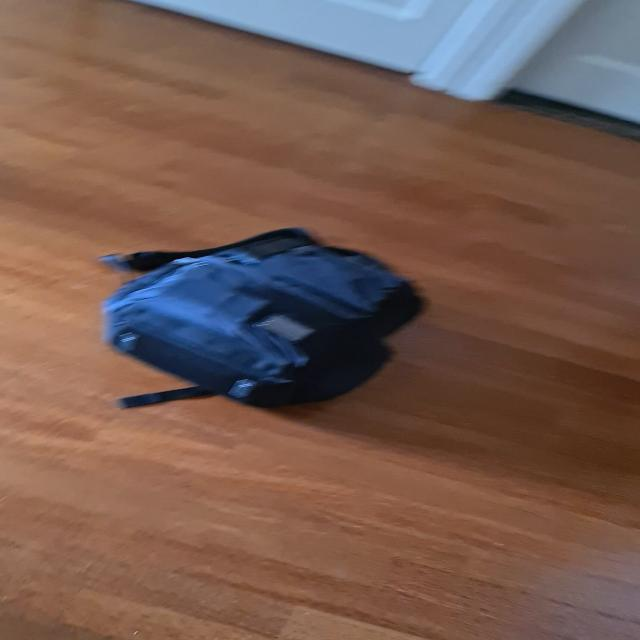backpack: (67, 222, 445, 420)
